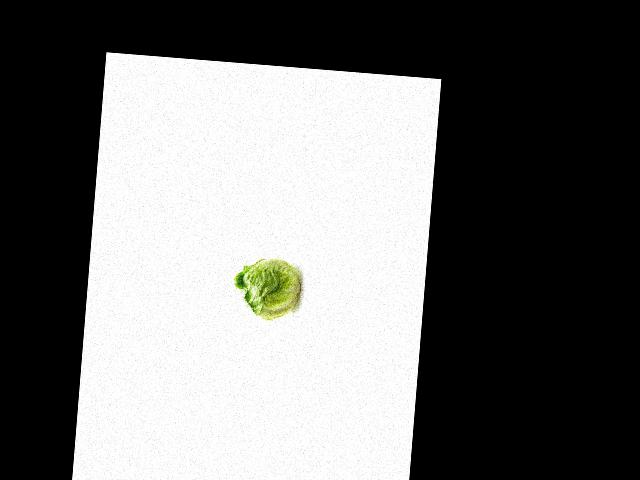lettuce: (230, 253, 305, 328)
